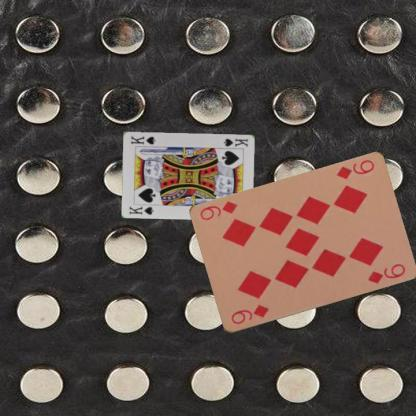9d: (228, 302, 270, 326), (334, 157, 376, 181)
Ks: (126, 204, 155, 216), (221, 136, 249, 148)
